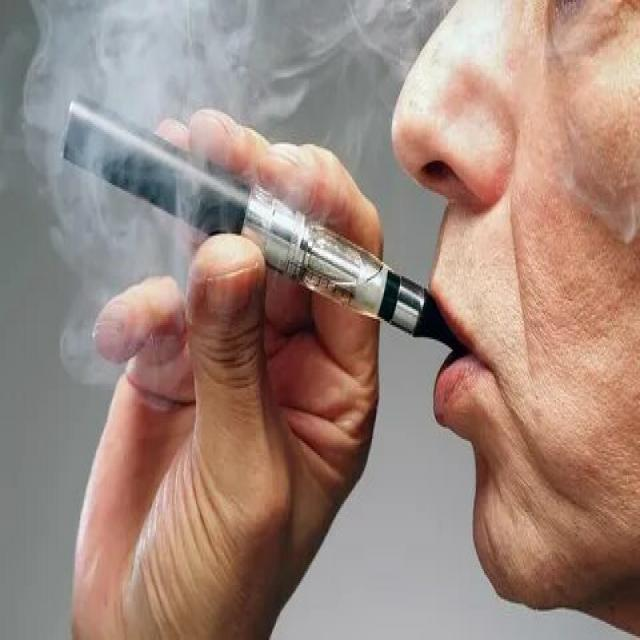smoke: (56, 75, 461, 372)
